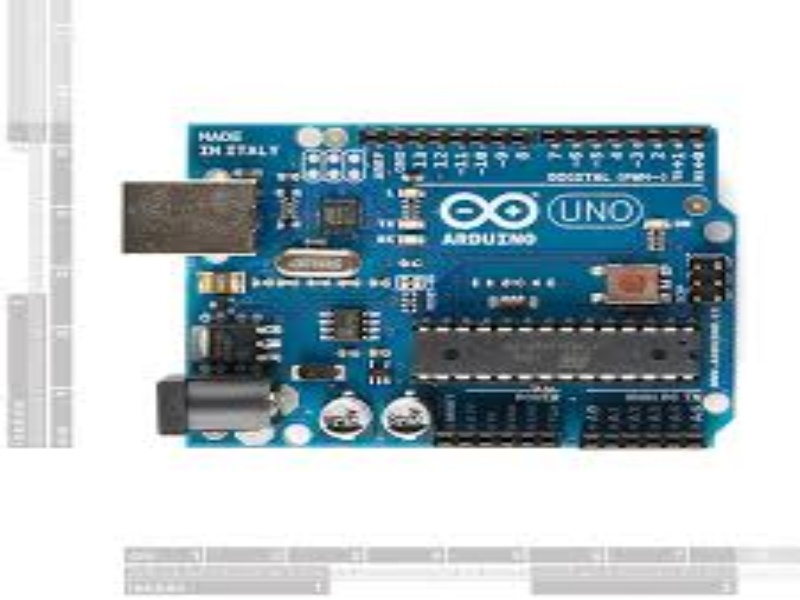uno: (114, 100, 742, 473)
